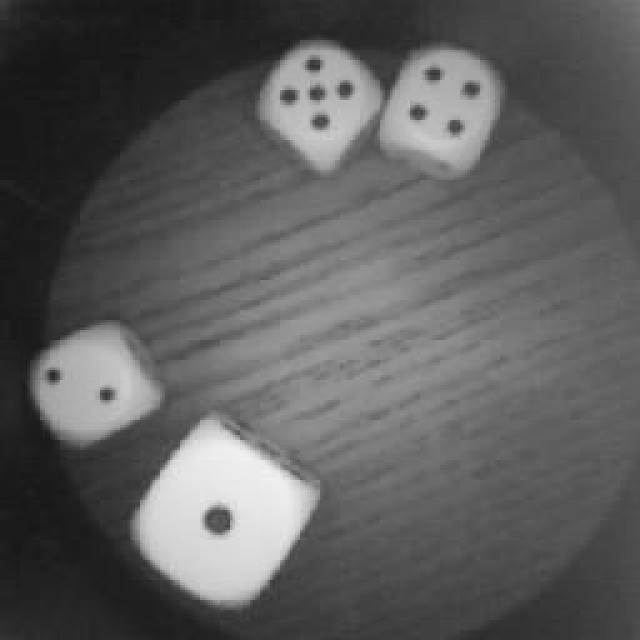dice_1: (130, 415, 322, 610)
dice_2: (30, 320, 158, 448)
dice_4: (385, 42, 507, 170)
dice_5: (258, 35, 388, 167)
